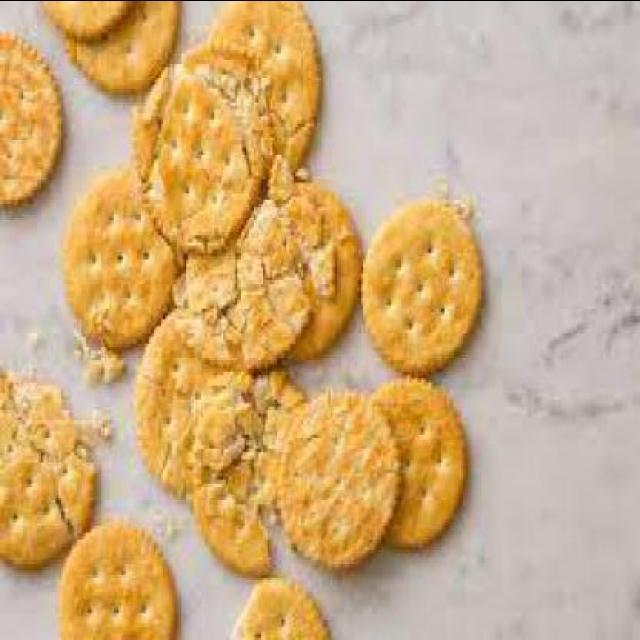Ritz cracker packaged: (7, 7, 498, 616)
